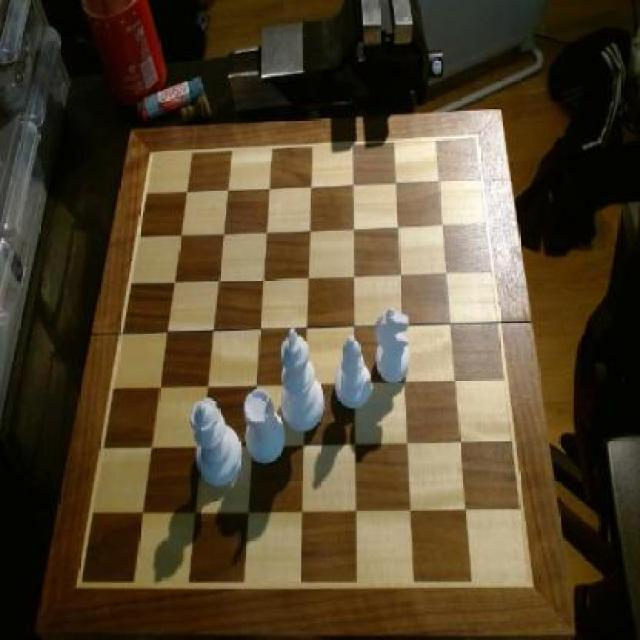black-rook: (334, 332, 373, 412)
white-bishop: (277, 326, 326, 434)
white-king: (372, 305, 412, 387)
white-pawn: (188, 396, 243, 488)
white-queen: (243, 386, 288, 466)
